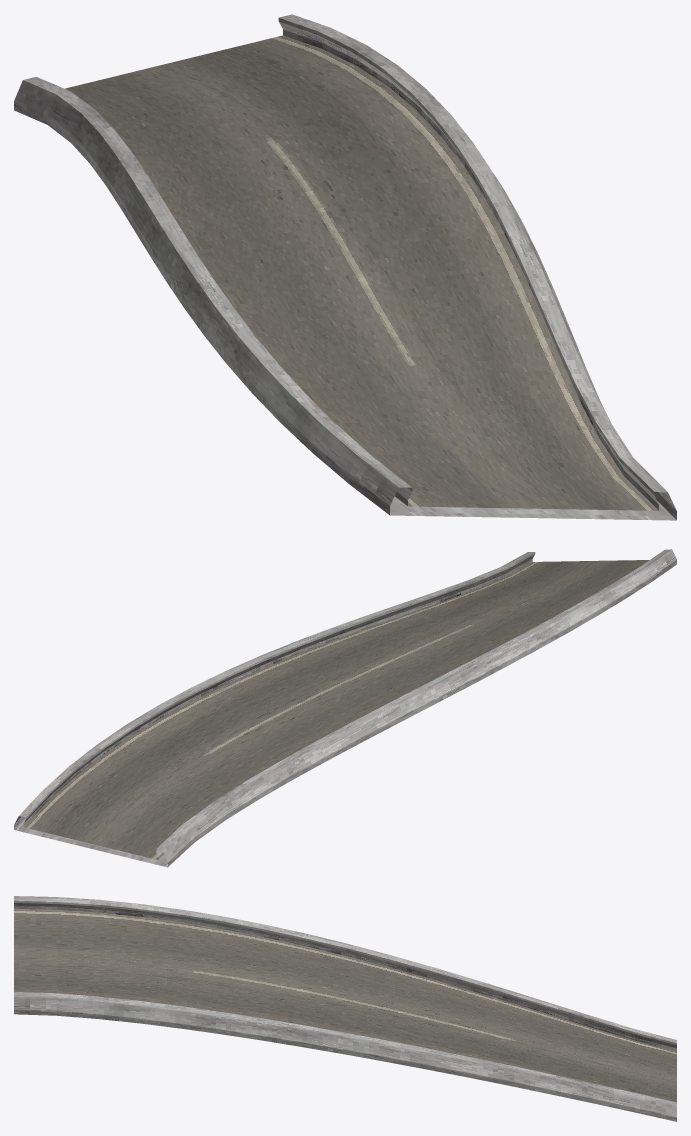
The model's file is road-Chicane-HalfBankedRight-BiSlopeDown-Down1-Right1-Size4.glb.
3 renders of one model, top to bottom at view 1: azimuth 30°, elevation 25°; view 2: azimuth 150°, elevation 25°; view 3: azimuth 270°, elevation 25°, orthographic. The views are drawn at different scales.
Parts seen in each view (by area): view 1: road-Chicane-HalfBankedRight-BiSlopeDown-Down1-Right1-Size4; view 2: road-Chicane-HalfBankedRight-BiSlopeDown-Down1-Right1-Size4; view 3: road-Chicane-HalfBankedRight-BiSlopeDown-Down1-Right1-Size4.
Part boxes in pixels (<box>): road-Chicane-HalfBankedRight-BiSlopeDown-Down1-Right1-Size4: <box>14,14,676,520</box>; road-Chicane-HalfBankedRight-BiSlopeDown-Down1-Right1-Size4: <box>14,549,676,867</box>; road-Chicane-HalfBankedRight-BiSlopeDown-Down1-Right1-Size4: <box>14,896,676,1121</box>.
Bounding box in the file's own units: 2 × 0.5859 × 4.
Materials: 2 (2 with a texture image).
